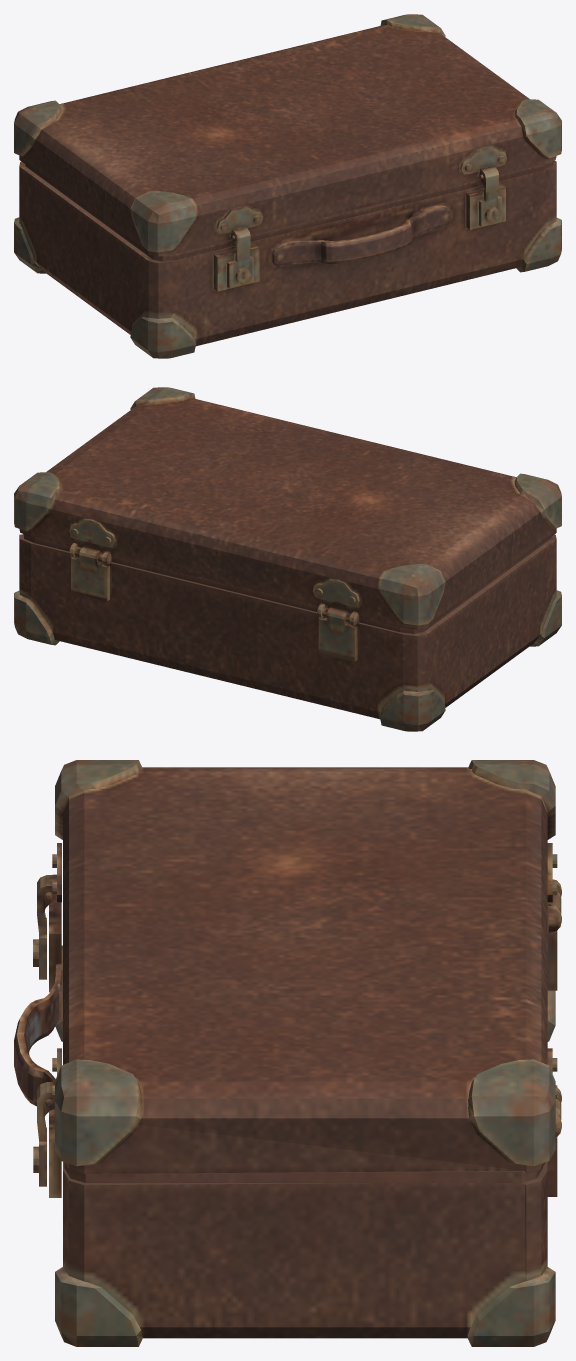
File: Suitcase.fbx
The picture shows the model from 3 angles, top to bottom: view 1: azimuth 30°, elevation 25°; view 2: azimuth 150°, elevation 25°; view 3: azimuth 270°, elevation 25°; orthographic projection. The views are drawn at different scales.
Visible parts, largest first — view 1: Suitcase_Low; view 2: Suitcase_Low; view 3: Suitcase_Low.
Part boxes in pixels (x1,y1,x2,y2): Suitcase_Low: [14, 14, 561, 358]; Suitcase_Low: [14, 387, 561, 731]; Suitcase_Low: [14, 760, 561, 1346].
Bounding box in the file's own units: 1.01 × 0.362 × 0.6761.
